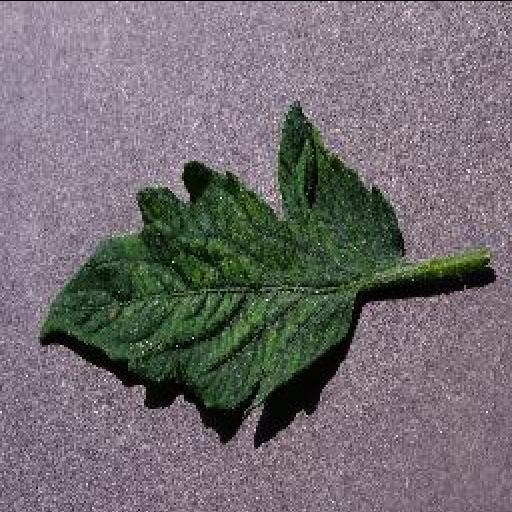Mosaic Virus: (42, 100, 406, 416)
